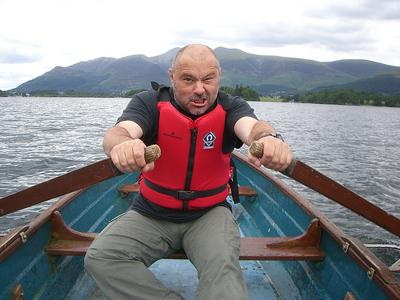person: (85, 43, 294, 299)
